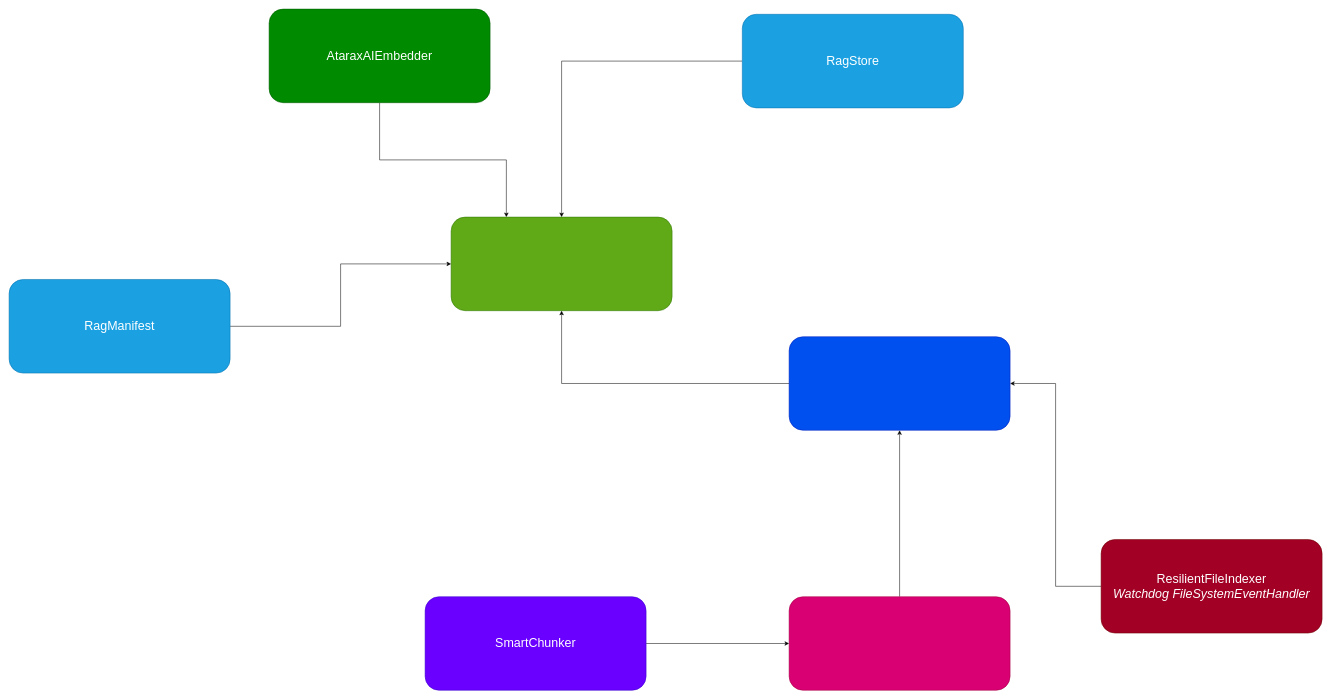
This 1331x699 diagram has some shape labels left out. The shapes that lost their labels are listed below. From the top down, each one's centre as x and y in pixels, then its label:
At point 561,264: "AtaraxAIRagManager CrossEncoder, Reranking".
At point 899,383: "RagFileMonitoring".
At point 899,643: "RagUpdater Thread Worker".
